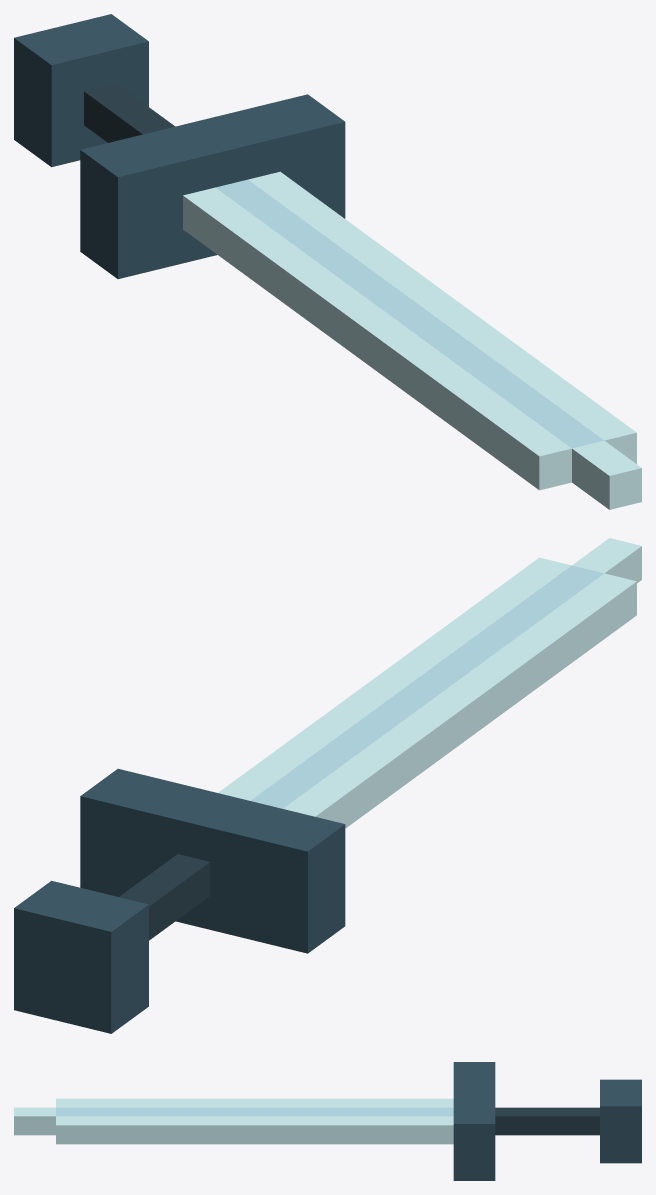
Rendered from vox_blade_ghost.glb.
3 views of the same model, one above another, from view 1: azimuth 30°, elevation 25°; view 2: azimuth 150°, elevation 25°; view 3: azimuth 270°, elevation 25° (orthographic). The views are drawn at different scales.
Parts seen in each view (by area): view 1: vox_blade_ghost; view 2: vox_blade_ghost; view 3: vox_blade_ghost.
Boxes of the visible parts, box(x1,y1,x2,y2) form: vox_blade_ghost: box(14, 14, 641, 509); vox_blade_ghost: box(14, 538, 641, 1033); vox_blade_ghost: box(14, 1062, 641, 1180).
Size of the model in its own units: 0.14 by 0.06 by 0.6.
